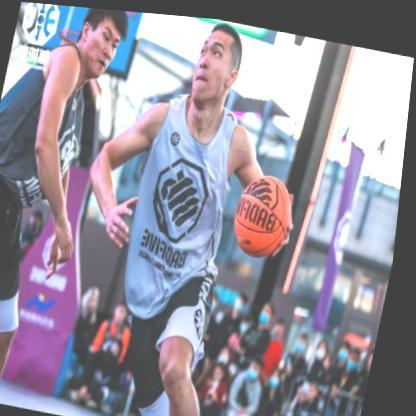basketball: (232, 164, 300, 257)
